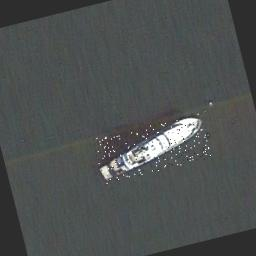boat: (92, 112, 212, 185)
